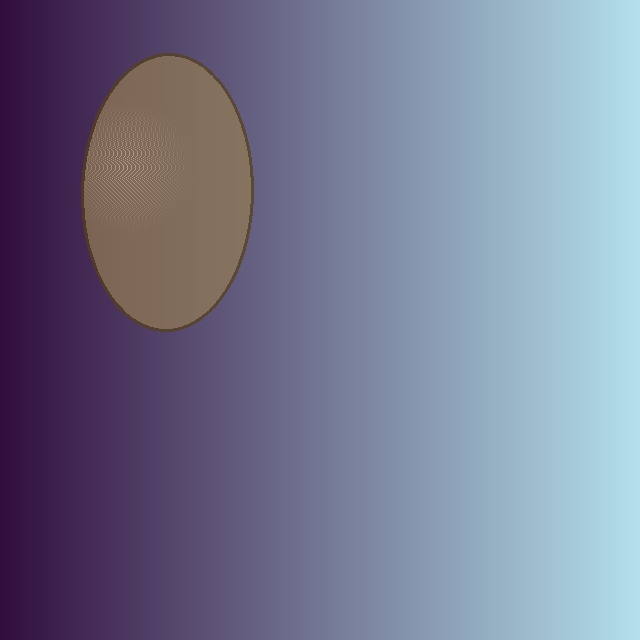lens: (82, 54, 252, 330)
